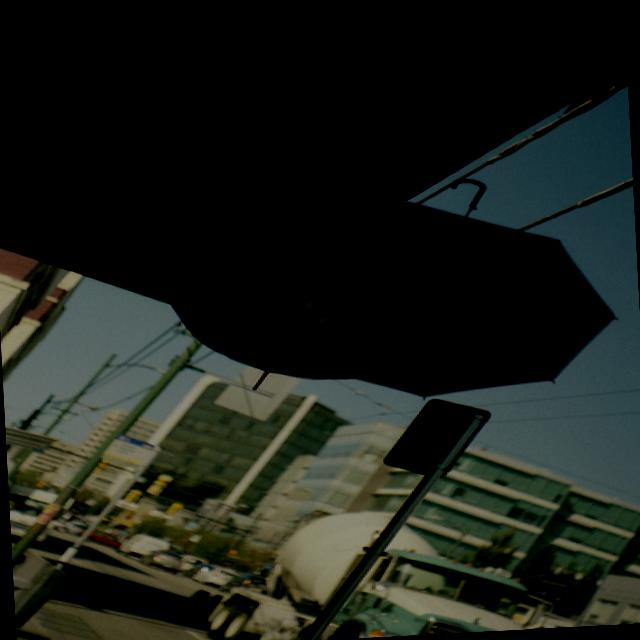Vehicle: (187, 502, 554, 640), (116, 532, 172, 558)
